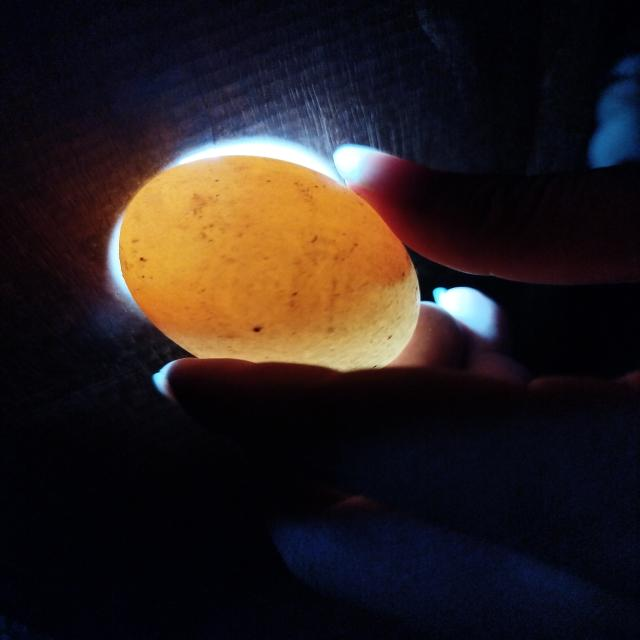Gema Quebrada: (120, 157, 415, 329)
